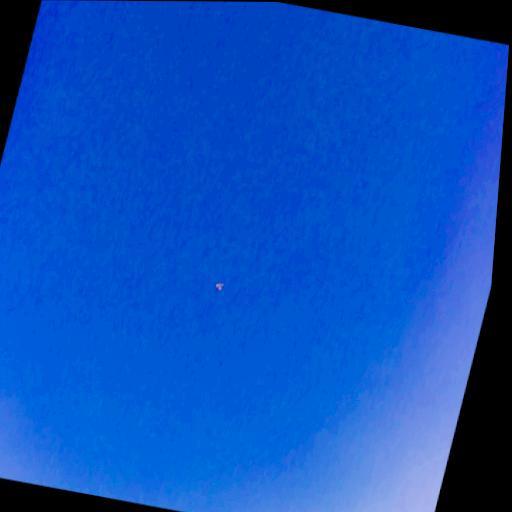drones: (211, 279, 224, 294)
